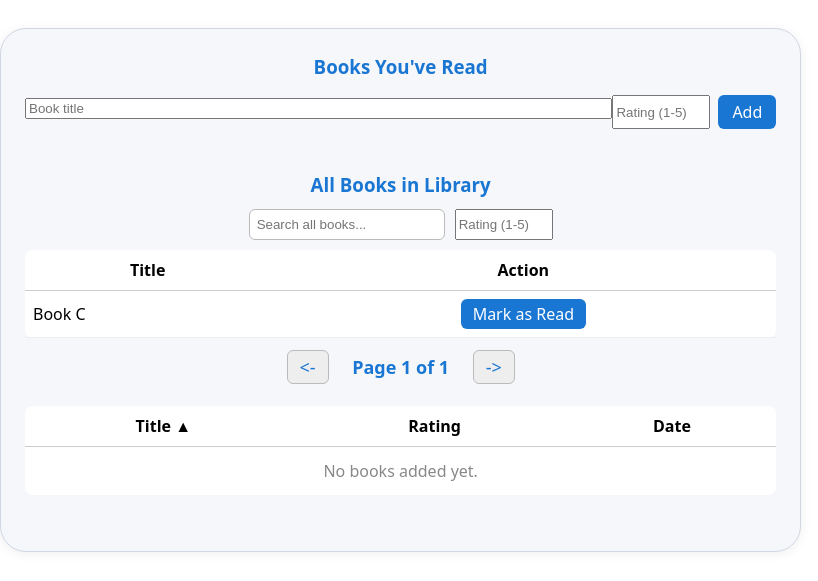
Scenario: UserReadBooks › shows error if rating is invalid when adding from all books
Type "Book C" into the field with placeholder "Search all books...". click: (347, 225)
box: left=249, top=209, right=445, bottom=240
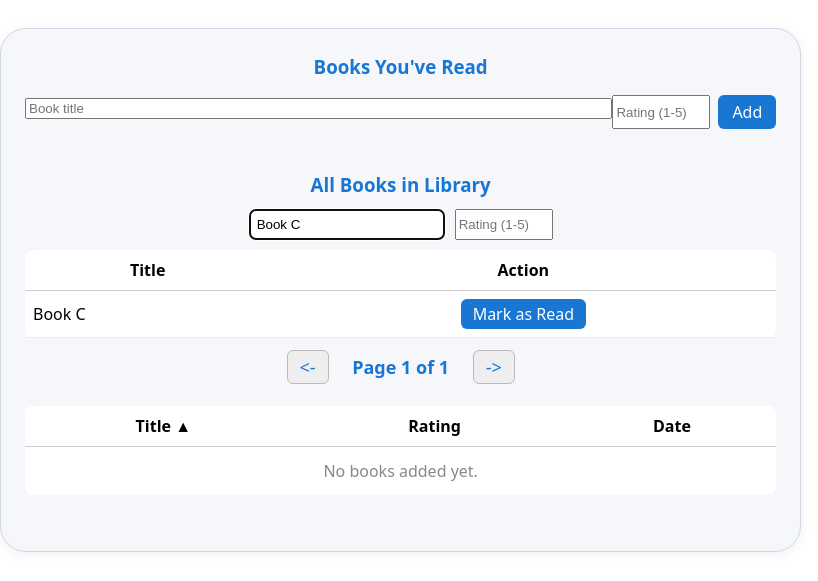
Expected: the text "Book C" is shown, left=25, top=291, right=270, bottom=338
Leave "all books" rating blank
Clear the number field with placeholder "Rating (1-5)" below "All Books in Library". click: (504, 225)
box: left=455, top=209, right=553, bottom=240
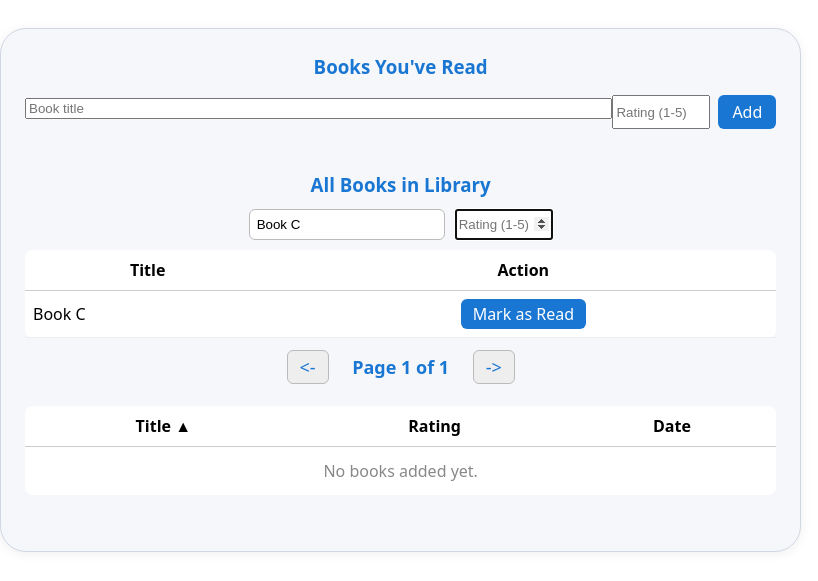
Click the button "Mark as Read". click: (523, 314)
box: left=461, top=299, right=586, bottom=329
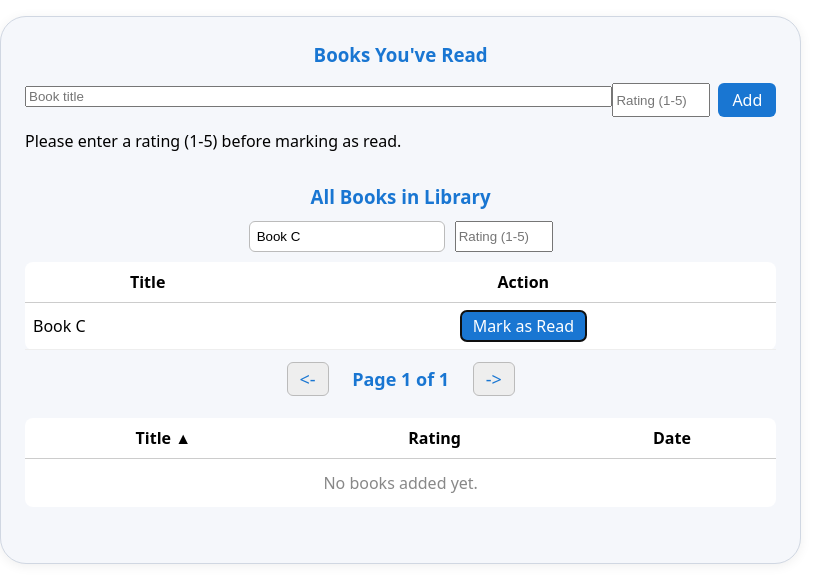
Expected: the text "Please enter a rating (1-5) before marking as read." is shown, left=25, top=130, right=401, bottom=152
